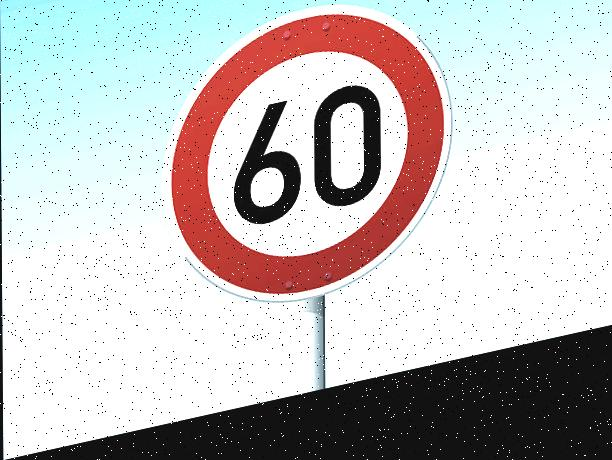Speed Limit -60-: (156, 0, 455, 339)
